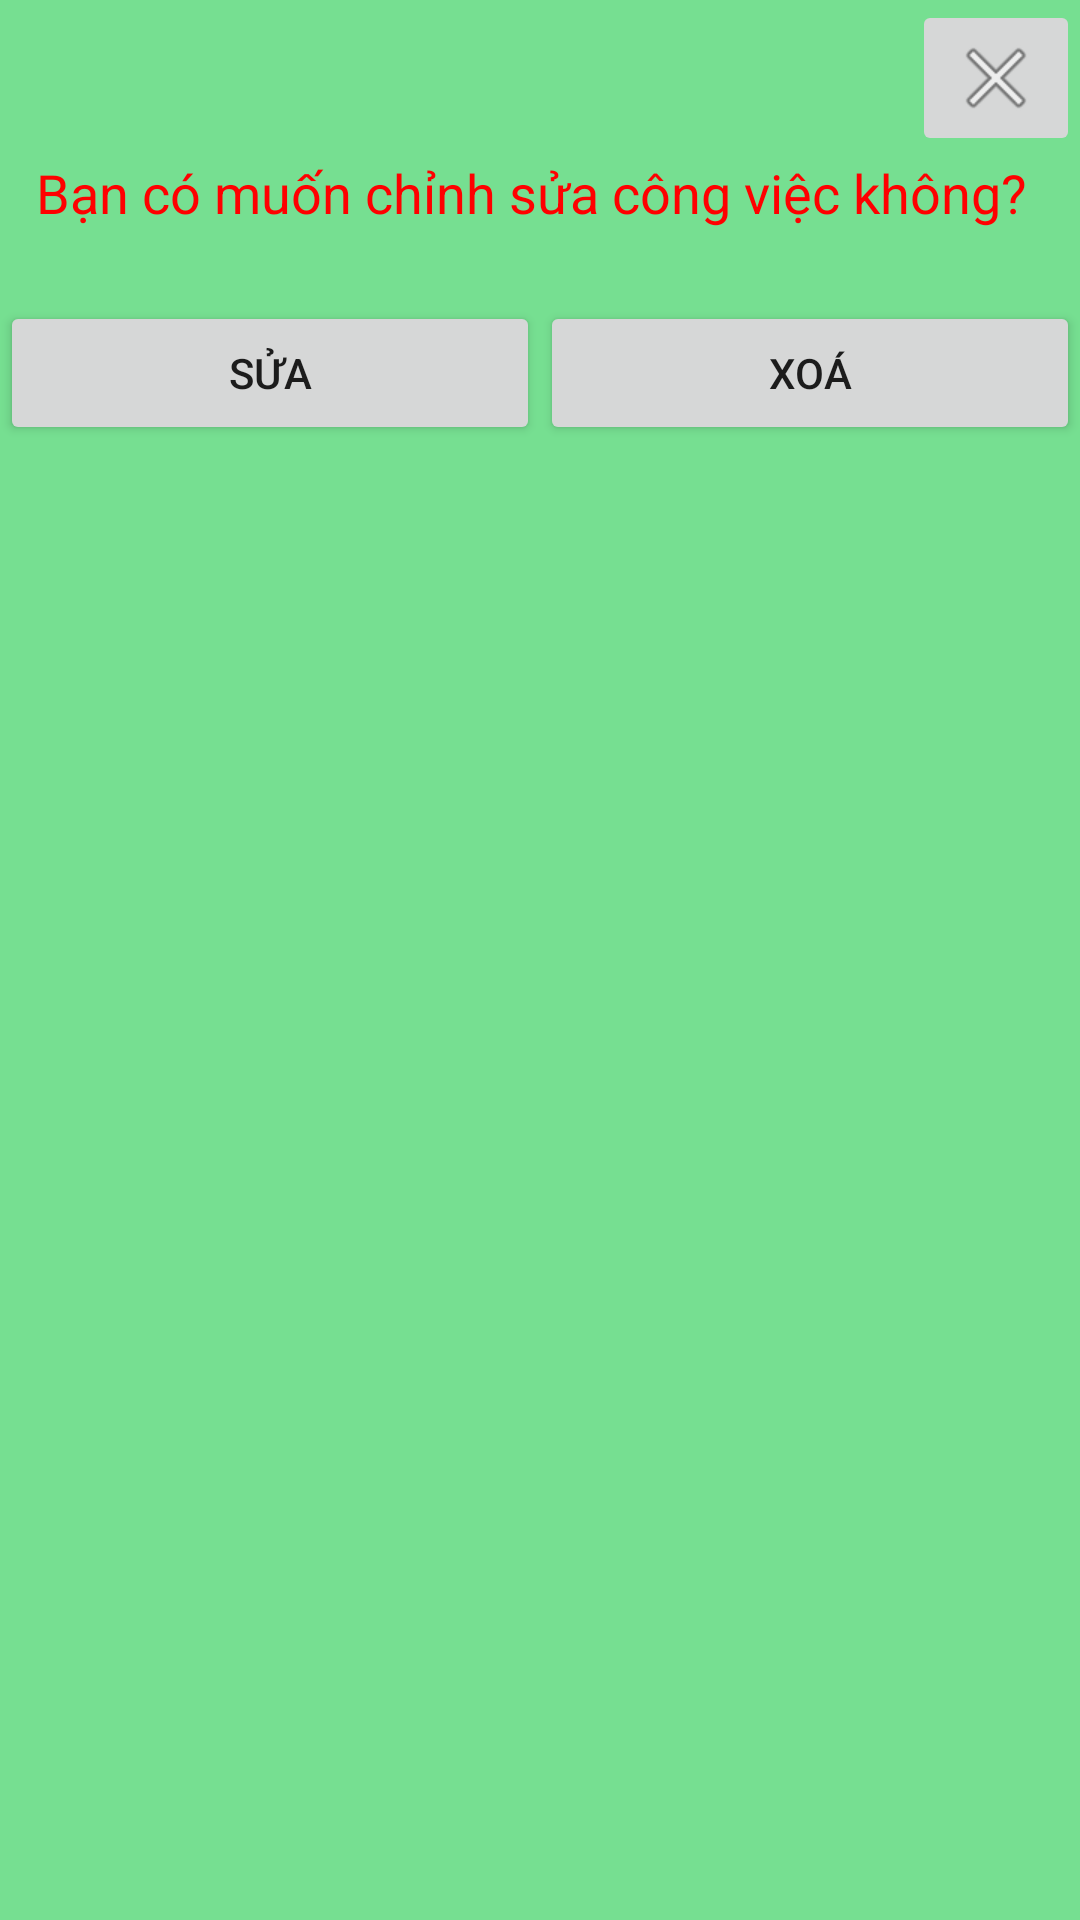

Screen size 1080×1920. Icon name, then its center in pixels as (x,y):
close clear cancel: (996,78)
